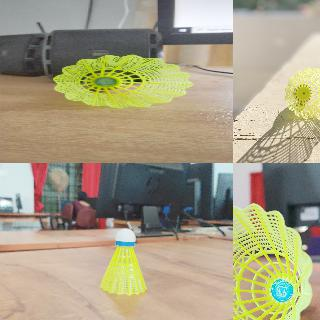shuttlecock: (233, 202, 314, 319), (55, 54, 192, 108), (98, 228, 146, 294), (284, 68, 319, 119)
